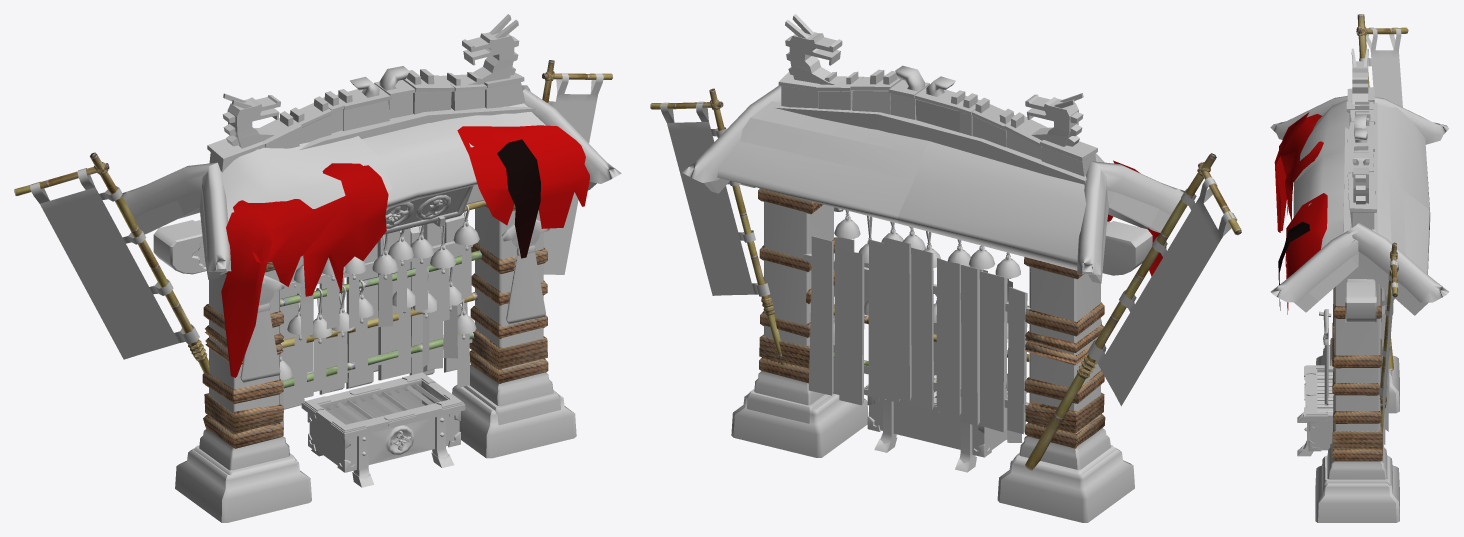
The picture shows the model from 3 angles, left to right: view 1: azimuth 30°, elevation 25°; view 2: azimuth 150°, elevation 25°; view 3: azimuth 270°, elevation 25°; orthographic projection. The views are drawn at different scales.
Parts seen in each view (by area): view 1: LOD_1_Group_0_Sub_5__N_sidarekoke_00, LOD_1_Group_0_Sub_4__B_kuesuto_02, LOD_1_Group_0_Sub_6__B_kuesuto_01, LOD_1_Group_0_Sub_15__B_yanekazari_03, LOD_1_Group_2_Sub_1__N_nuno07, LOD_1_Group_0_Sub_8__B_kuesuto_00, LOD_1_Group_1_Sub_3__B_kuesuto_01, LOD_1_Group_0_Sub_7__N_nawa_00, LOD_1_Group_0_Sub_3__B_yane_03, LOD_1_Group_0_Sub_16__B_yane20, LOD_1_Group_0_Sub_13__B_kuesutoyure_01, LOD_1_Group_0_Sub_1__B_yanemos_01 (+7 smaller); view 2: LOD_1_Group_0_Sub_4__B_kuesuto_02, LOD_1_Group_0_Sub_1__B_yanemos_01, LOD_1_Group_0_Sub_6__B_kuesuto_01, LOD_1_Group_0_Sub_15__B_yanekazari_03, LOD_1_Group_1_Sub_3__B_kuesuto_01, LOD_1_Group_0_Sub_7__N_nawa_00, LOD_1_Group_2_Sub_1__N_nuno07, LOD_1_Group_1_Sub_1__N_nobori_01, LOD_1_Group_0_Sub_3__B_yane_03, LOD_1_Group_0_Sub_2__B_yanemos_00, LOD_1_Group_0_Sub_16__B_yane20, LOD_1_Group_2_Sub_2__B_nobori00 (+4 smaller); view 3: LOD_1_Group_0_Sub_6__B_kuesuto_01, LOD_1_Group_0_Sub_5__N_sidarekoke_00, LOD_1_Group_0_Sub_3__B_yane_03, LOD_1_Group_0_Sub_1__B_yanemos_01, LOD_1_Group_1_Sub_3__B_kuesuto_01, LOD_1_Group_0_Sub_7__N_nawa_00, LOD_1_Group_0_Sub_2__B_yanemos_00, LOD_1_Group_0_Sub_15__B_yanekazari_03, LOD_1_Group_0_Sub_4__B_kuesuto_02, LOD_1_Group_0_Sub_16__B_yane20, LOD_1_Group_0_Sub_9__B_wood_00, LOD_1_Group_2_Sub_1__N_nuno07 (+5 smaller).
Boxes of the visible parts, box(x1,y1,x2,y2) form: LOD_1_Group_0_Sub_5__N_sidarekoke_00: box(220, 125, 589, 377); LOD_1_Group_0_Sub_4__B_kuesuto_02: box(280, 214, 472, 487); LOD_1_Group_0_Sub_6__B_kuesuto_01: box(153, 185, 553, 470); LOD_1_Group_0_Sub_15__B_yanekazari_03: box(207, 69, 536, 172); LOD_1_Group_2_Sub_1__N_nuno07: box(30, 168, 199, 359); LOD_1_Group_0_Sub_8__B_kuesuto_00: box(240, 205, 549, 382); LOD_1_Group_1_Sub_3__B_kuesuto_01: box(175, 385, 576, 522); LOD_1_Group_0_Sub_7__N_nawa_00: box(202, 204, 548, 448); LOD_1_Group_0_Sub_3__B_yane_03: box(122, 85, 621, 271); LOD_1_Group_0_Sub_16__B_yane20: box(222, 14, 519, 148); LOD_1_Group_0_Sub_13__B_kuesutoyure_01: box(294, 260, 469, 391); LOD_1_Group_0_Sub_1__B_yanemos_01: box(179, 133, 477, 274); LOD_1_Group_0_Sub_4__B_kuesuto_02: box(803, 236, 1030, 472); LOD_1_Group_0_Sub_1__B_yanemos_01: box(717, 117, 1149, 270); LOD_1_Group_0_Sub_6__B_kuesuto_01: box(740, 183, 1152, 469); LOD_1_Group_0_Sub_15__B_yanekazari_03: box(774, 69, 1097, 184); LOD_1_Group_1_Sub_3__B_kuesuto_01: box(731, 394, 1134, 522); LOD_1_Group_0_Sub_7__N_nawa_00: box(758, 188, 1105, 448); LOD_1_Group_2_Sub_1__N_nuno07: box(1087, 177, 1237, 406); LOD_1_Group_1_Sub_1__N_nobori_01: box(660, 101, 770, 296); LOD_1_Group_0_Sub_3__B_yane_03: box(681, 85, 1184, 274); LOD_1_Group_0_Sub_2__B_yanemos_00: box(751, 101, 1085, 203); LOD_1_Group_0_Sub_16__B_yane20: box(785, 14, 1083, 146); LOD_1_Group_2_Sub_2__B_nobori00: box(1025, 153, 1241, 470); LOD_1_Group_0_Sub_6__B_kuesuto_01: box(1319, 266, 1387, 479); LOD_1_Group_0_Sub_5__N_sidarekoke_00: box(1274, 100, 1349, 314); LOD_1_Group_0_Sub_3__B_yane_03: box(1270, 96, 1449, 302); LOD_1_Group_0_Sub_1__B_yanemos_01: box(1293, 108, 1430, 274); LOD_1_Group_1_Sub_3__B_kuesuto_01: box(1315, 348, 1399, 522); LOD_1_Group_0_Sub_7__N_nawa_00: box(1332, 288, 1382, 461); LOD_1_Group_0_Sub_2__B_yanemos_00: box(1322, 106, 1397, 242); LOD_1_Group_0_Sub_15__B_yanekazari_03: box(1343, 87, 1377, 232); LOD_1_Group_0_Sub_4__B_kuesuto_02: box(1297, 286, 1389, 456); LOD_1_Group_0_Sub_16__B_yane20: box(1351, 48, 1369, 204); LOD_1_Group_0_Sub_9__B_wood_00: box(1294, 252, 1428, 315); LOD_1_Group_2_Sub_1__N_nuno07: box(1359, 27, 1402, 107).
Bounding box in the file's own units: 641 × 423 × 197.
